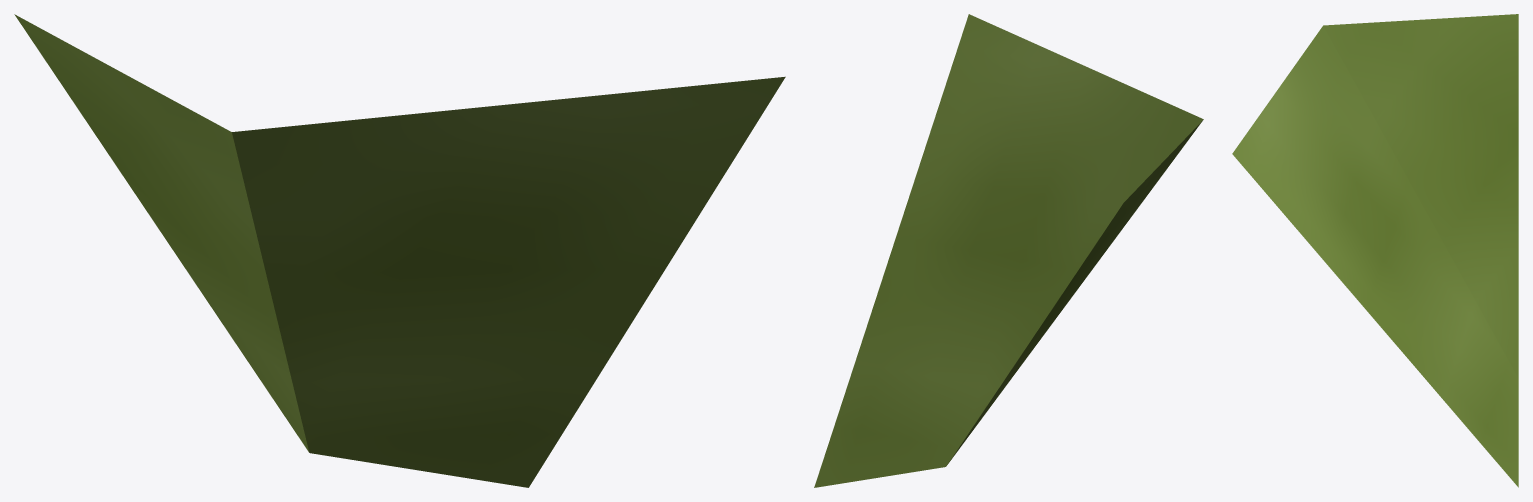
The picture shows the model from 3 angles, left to right: view 1: azimuth 30°, elevation 25°; view 2: azimuth 150°, elevation 25°; view 3: azimuth 270°, elevation 25°; orthographic projection. The views are drawn at different scales.
Bounding box in the file's own units: 2.12 × 2.36 × 1.84.
1 material, 1 textured.
